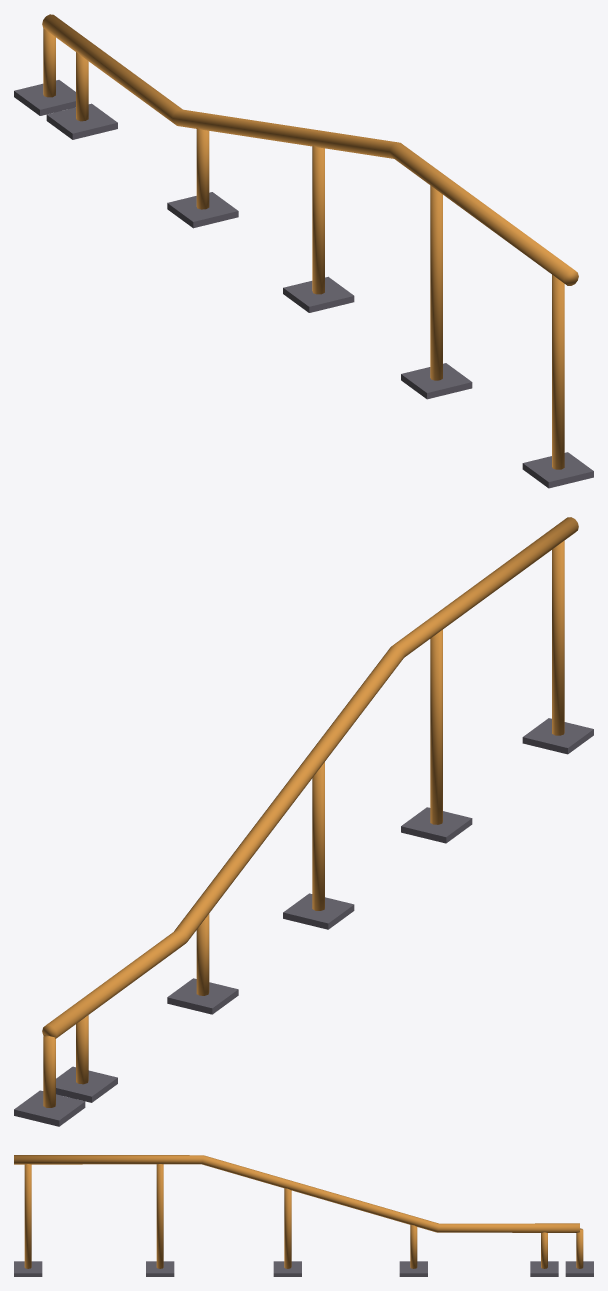
Rendered from KinkRail.glb.
The picture shows the model from 3 angles, top to bottom: view 1: azimuth 30°, elevation 25°; view 2: azimuth 150°, elevation 25°; view 3: azimuth 270°, elevation 25°; orthographic projection. The views are drawn at different scales.
Parts seen in each view (by area): view 1: KinkRail_Bar; view 2: KinkRail_Bar; view 3: KinkRail_Bar.
Part boxes in pixels (<box>): KinkRail_Bar: <box>14,14,593,488</box>; KinkRail_Bar: <box>14,517,593,1126</box>; KinkRail_Bar: <box>14,1155,593,1276</box>.
Bounding box in the file's own units: 0.3003 × 1.35 × 6.15.
